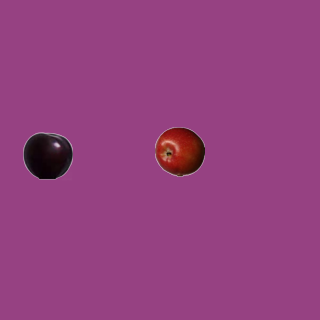Apple Braeburn: (154, 126, 204, 176)
Cherry Wax Black: (22, 130, 72, 180)
